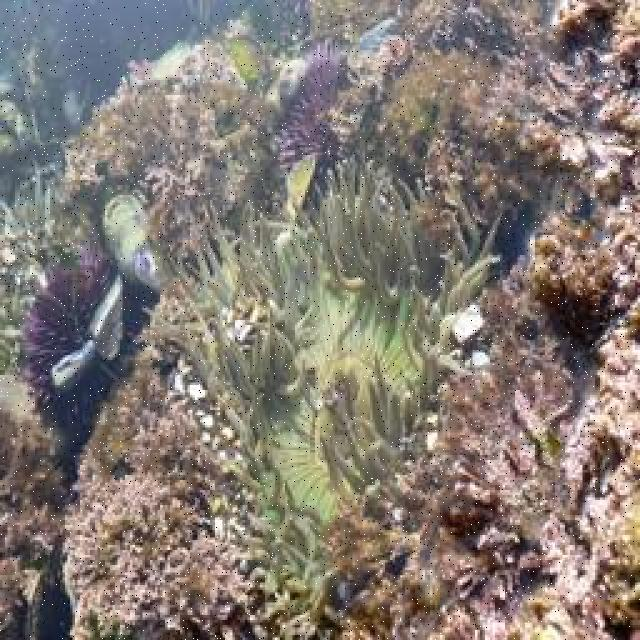reefs: (140, 156, 507, 603), (20, 241, 160, 428), (273, 40, 358, 185)
